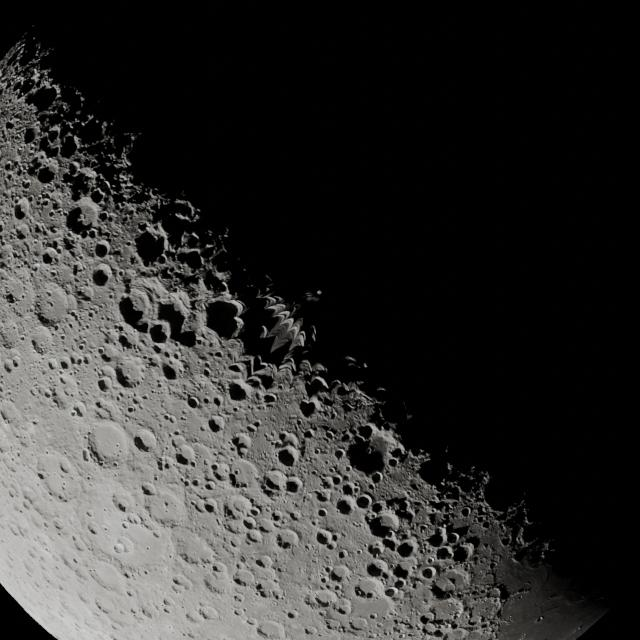crater: (116, 517, 166, 561), (204, 294, 246, 340), (89, 421, 131, 462), (34, 280, 73, 324), (90, 556, 134, 592), (146, 488, 185, 526), (132, 226, 168, 264), (245, 431, 276, 467), (70, 196, 102, 229), (129, 286, 157, 320), (188, 443, 218, 473), (114, 358, 144, 388), (231, 458, 260, 489), (28, 85, 59, 114), (167, 198, 199, 225), (166, 292, 193, 323), (28, 325, 56, 353), (176, 246, 205, 272), (430, 599, 461, 623), (255, 576, 283, 602), (355, 576, 384, 600), (440, 568, 468, 592), (5, 274, 28, 302), (449, 515, 477, 538), (227, 494, 252, 519), (228, 379, 254, 403), (133, 428, 157, 452), (1, 399, 24, 424), (76, 166, 99, 191), (53, 384, 75, 410), (264, 469, 288, 492), (277, 444, 300, 468), (366, 558, 390, 580), (395, 558, 418, 580), (306, 376, 329, 398), (257, 620, 285, 638), (59, 134, 79, 159), (276, 528, 300, 548), (94, 594, 118, 614), (377, 512, 401, 532), (175, 444, 196, 466), (149, 322, 170, 344), (428, 527, 450, 548), (92, 264, 112, 287), (233, 568, 256, 588), (36, 163, 57, 184), (232, 434, 253, 454), (452, 543, 473, 563), (299, 399, 320, 419), (225, 298, 246, 318), (140, 600, 160, 620), (336, 496, 356, 516), (278, 431, 300, 449), (102, 344, 121, 364), (396, 540, 416, 559), (315, 588, 336, 606), (14, 198, 31, 220), (20, 484, 38, 504), (172, 574, 192, 592), (162, 361, 180, 381), (113, 494, 132, 512), (100, 365, 118, 384), (285, 476, 303, 494), (14, 222, 31, 240), (208, 415, 225, 433), (94, 240, 111, 258), (332, 564, 351, 580), (199, 605, 219, 620), (368, 541, 385, 558), (316, 529, 333, 546), (436, 545, 454, 561), (98, 376, 114, 393), (42, 247, 58, 264), (23, 126, 38, 144), (350, 616, 369, 630), (316, 488, 332, 504), (247, 528, 263, 544), (335, 599, 351, 615), (356, 494, 372, 510), (390, 446, 406, 462), (357, 424, 374, 439), (203, 498, 218, 514), (72, 535, 87, 551), (59, 457, 73, 474), (67, 160, 81, 177), (72, 403, 86, 419), (211, 562, 227, 576), (90, 188, 104, 204), (141, 482, 156, 496), (258, 555, 273, 569), (421, 566, 436, 580), (87, 521, 101, 535), (58, 356, 72, 370), (370, 471, 384, 485), (244, 517, 257, 530), (263, 393, 277, 405), (448, 531, 460, 545), (424, 623, 438, 635), (47, 358, 59, 371), (330, 474, 343, 486), (384, 587, 398, 598), (163, 597, 175, 609), (187, 396, 199, 408), (113, 542, 125, 554), (165, 413, 177, 424), (4, 360, 15, 372), (204, 481, 216, 492), (317, 507, 328, 519), (460, 507, 472, 518), (304, 626, 316, 636), (82, 449, 90, 462), (338, 549, 348, 559), (233, 594, 243, 604), (246, 617, 257, 626), (234, 608, 244, 617), (287, 611, 297, 620), (43, 389, 51, 398), (536, 616, 544, 623), (316, 290, 323, 296)
rock: (512, 526, 527, 547), (494, 582, 511, 600), (511, 586, 532, 600), (299, 360, 313, 374), (296, 330, 307, 346), (218, 280, 230, 294), (521, 514, 533, 526), (6, 292, 17, 304), (309, 326, 317, 342), (344, 356, 357, 365), (72, 264, 80, 276), (366, 445, 375, 455), (376, 387, 387, 394), (446, 462, 453, 472), (539, 550, 546, 560), (550, 592, 558, 600), (576, 624, 584, 632), (362, 362, 368, 369), (445, 446, 450, 454)
